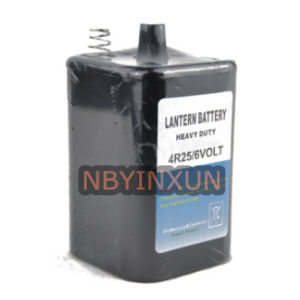6V: (60, 21, 243, 284)
